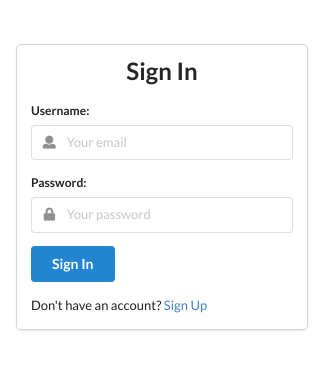
Scenario: SignIn component › when sign in fails › should display error message when user is not authenticated
This screenshot has width=325, height=376.
Step 1. Type "test@test.com" into the field labelled "Username:" → (162, 142), box [31,125,293,160]
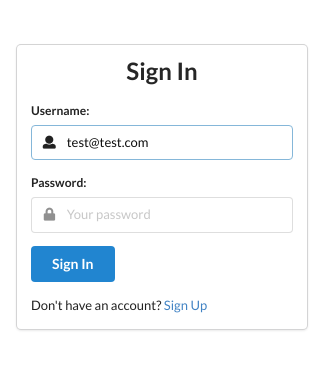
Step 2. Type "test" into the password field labelled "Password:" → (162, 215), box [31,197,293,233]
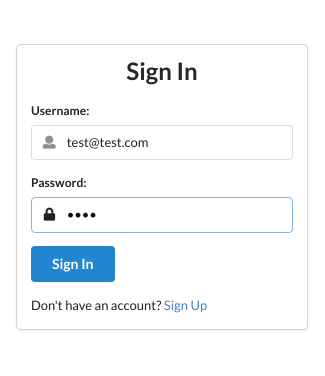
Step 3. Click the button "Sign In" → click(73, 264), box [31,246,115,282]
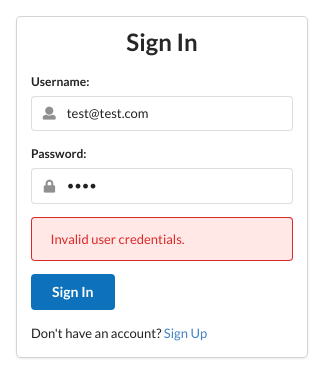
Result: the text "Invalid user credentials." is shown at [31,217,293,261]
